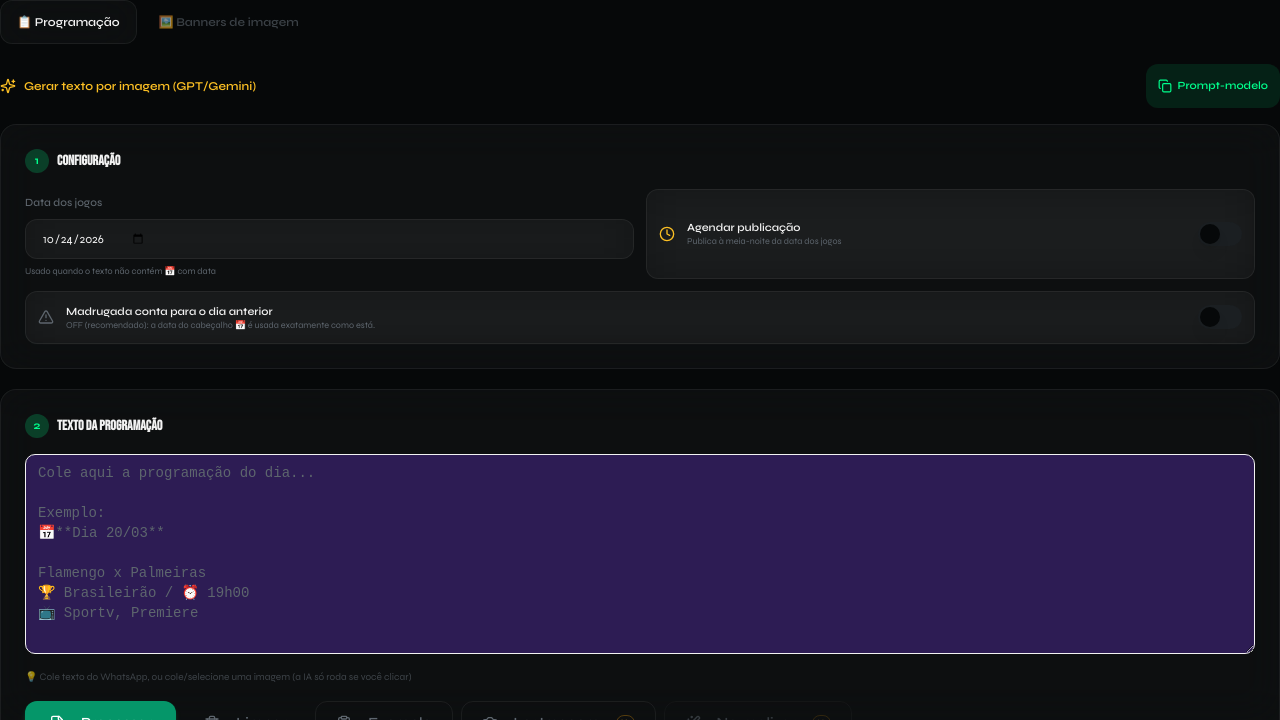
it: AdminProgramacao — schedule validation › shows alert and blocks upload when custom schedule is in the past
This screenshot has width=1280, height=720.
Click the tab "🖼️ Banners de imagem" at (229, 22), box [142,0,315,44]
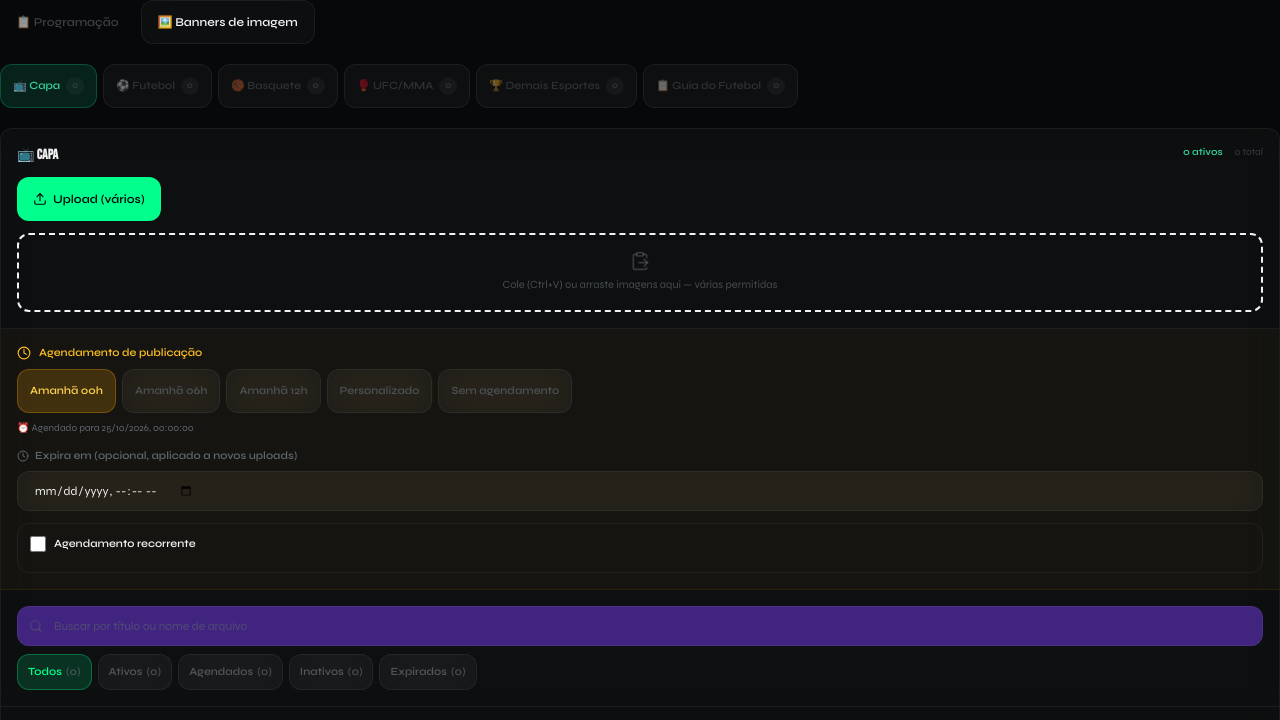
Click the button "Personalizado" at (380, 391), box [327,369,432,413]
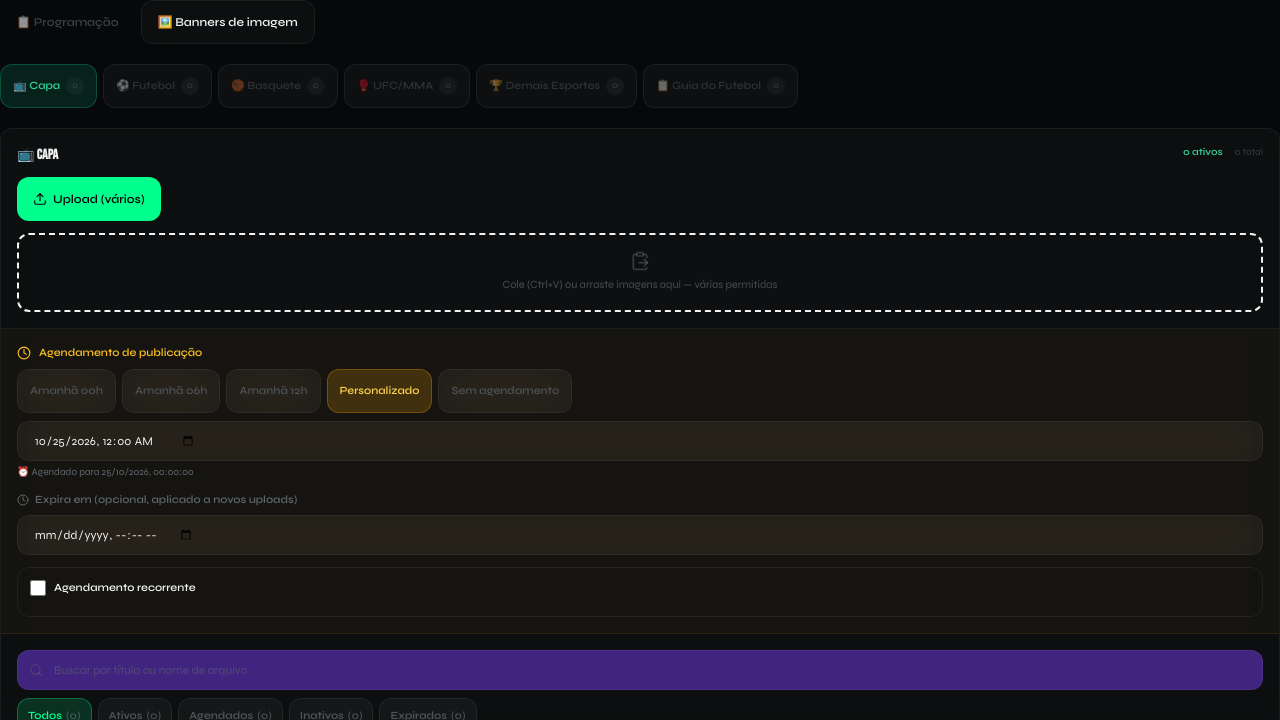
Replace the text in the 1st field with "2020-01-01T00:00" at (640, 441), box [17,421,1263,461]
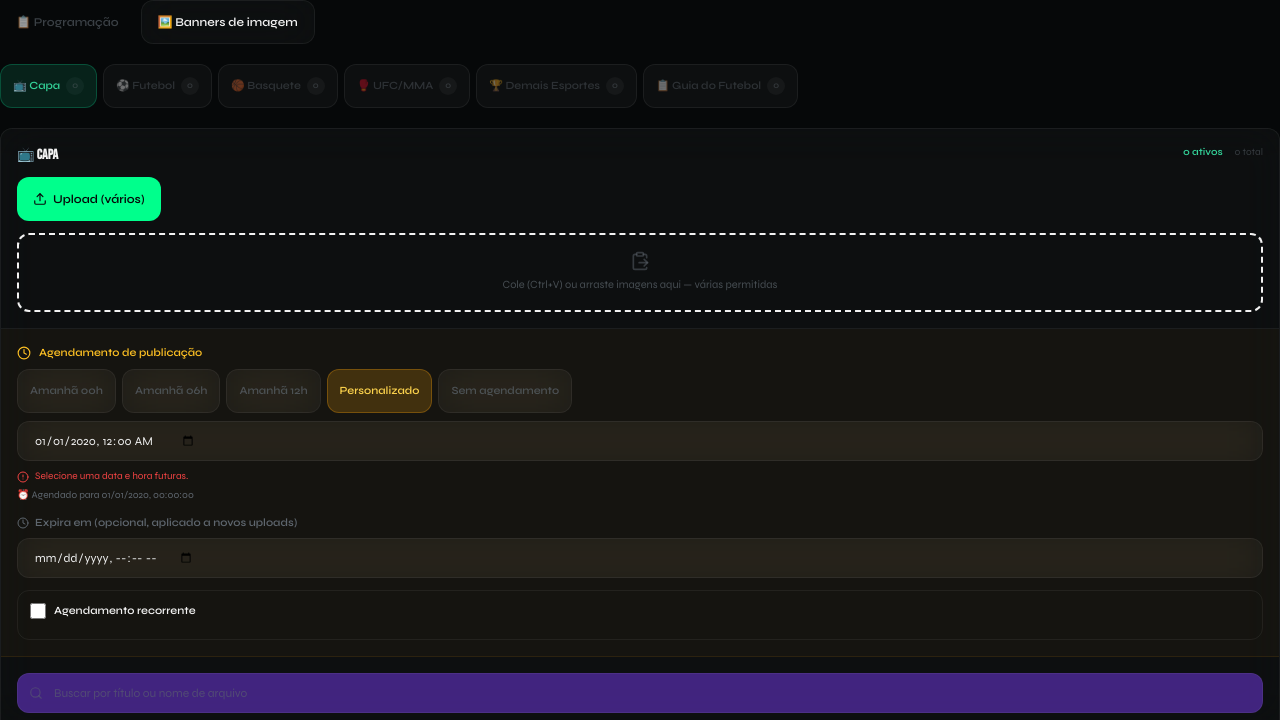
Expected: the message shows "data e hora futuras", [35,470,188,482]
